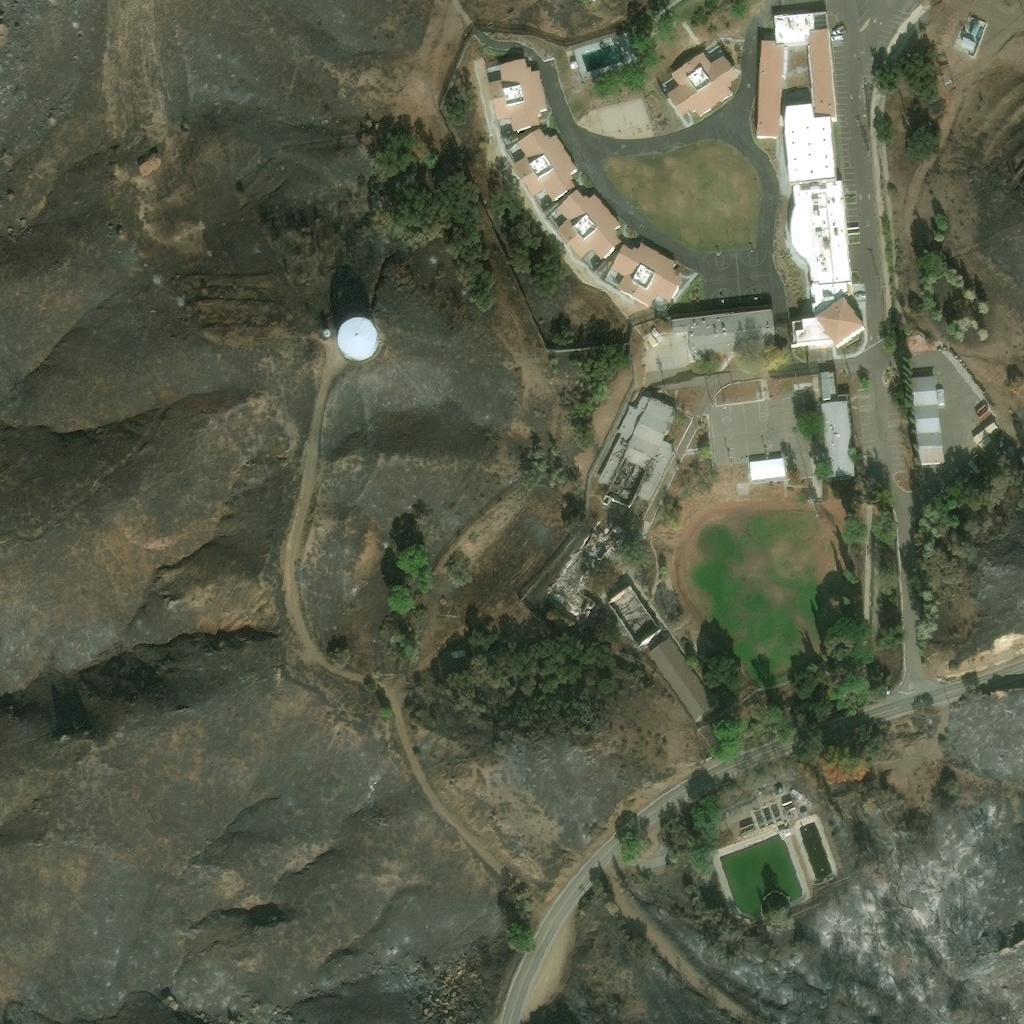0 no-damage: (647, 636, 719, 723), (788, 181, 848, 284), (603, 243, 684, 315), (548, 189, 623, 266), (506, 129, 578, 202), (671, 308, 776, 358), (665, 52, 739, 118), (485, 59, 548, 134), (783, 104, 835, 184), (789, 297, 865, 349), (909, 376, 945, 465), (816, 400, 856, 480), (755, 41, 787, 139), (804, 28, 837, 117), (335, 318, 378, 363), (773, 12, 814, 49), (809, 284, 847, 318), (746, 457, 788, 482), (966, 451, 995, 478), (972, 419, 998, 449), (817, 372, 836, 402), (960, 36, 975, 48), (969, 19, 978, 34)
1 minor-damage: (779, 798, 796, 818), (791, 790, 808, 805), (778, 828, 791, 839)
2 major-damage: (596, 394, 679, 513)
3 destroyed: (546, 517, 622, 622), (601, 581, 664, 651)
